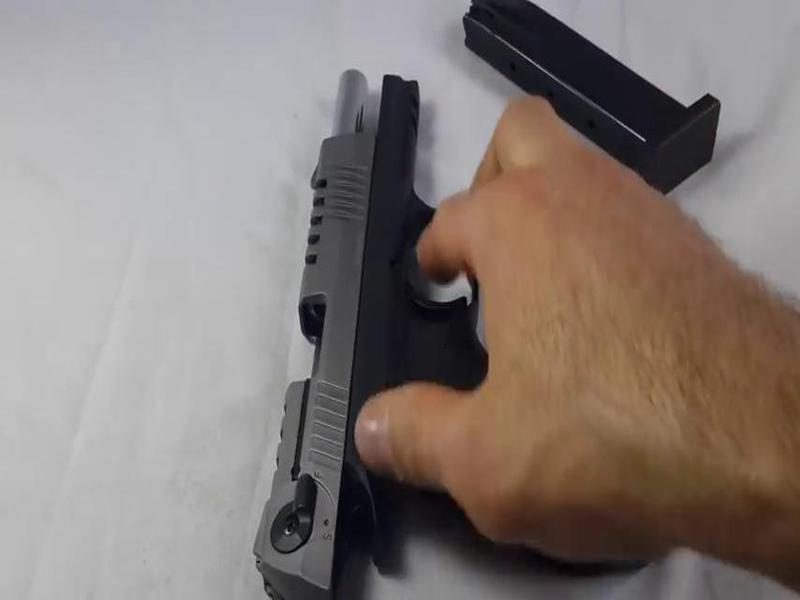Pistola: (231, 56, 499, 591)
